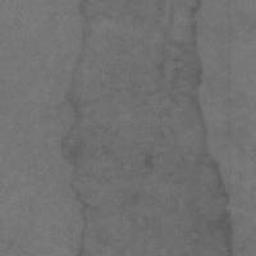Water spot: (61, 0, 234, 256)
